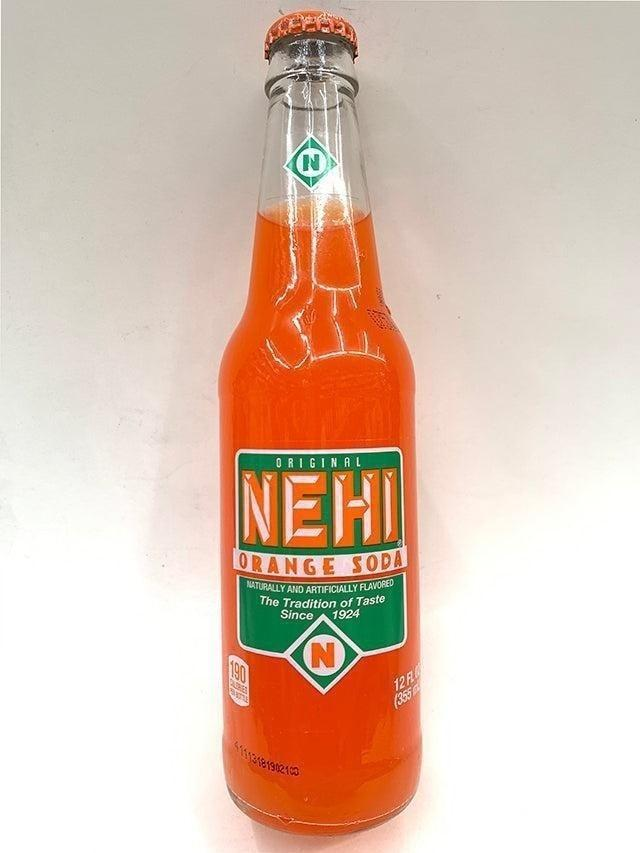bottle-glass: (212, 4, 427, 847)
